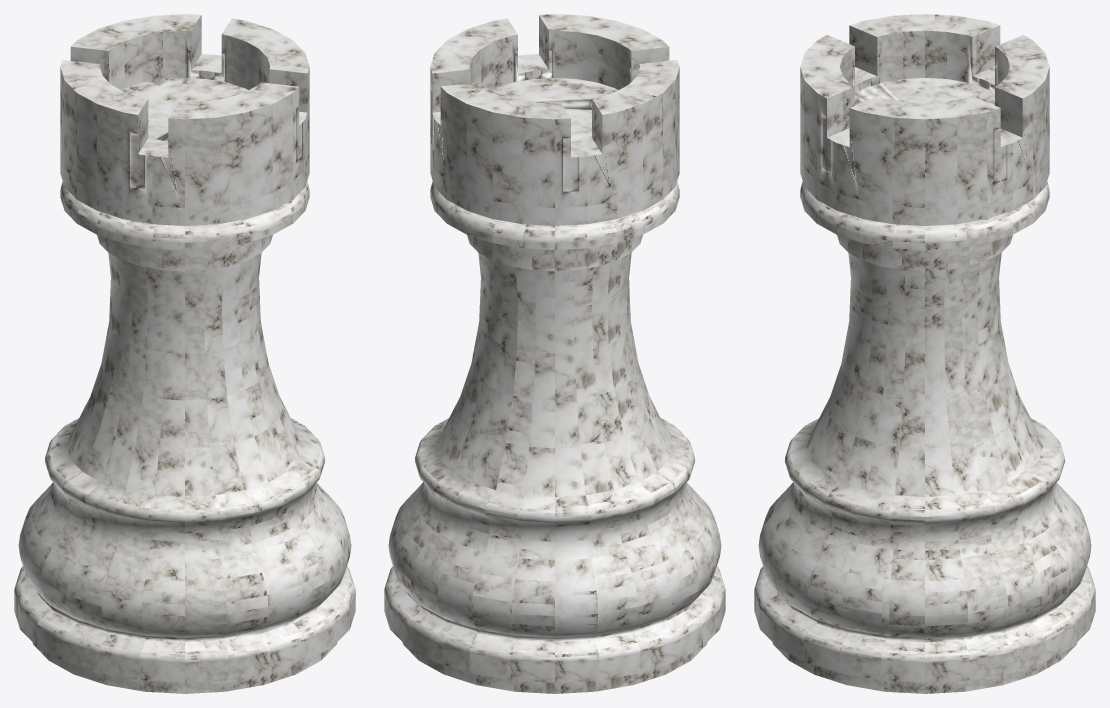
File: white_rook.fbx
3 renders of one model, left to right at view 1: azimuth 30°, elevation 25°; view 2: azimuth 150°, elevation 25°; view 3: azimuth 270°, elevation 25°, orthographic.
Visible parts, largest first — view 1: Model; view 2: Model; view 3: Model.
Boxes of the visible parts, x1,y1,x2,y2 form: Model: (14,14,355,693); Model: (384,14,725,693); Model: (754,14,1095,693).
Bounding box in the file's own units: 11.78 × 21.35 × 11.78.
1 material, 1 textured.
